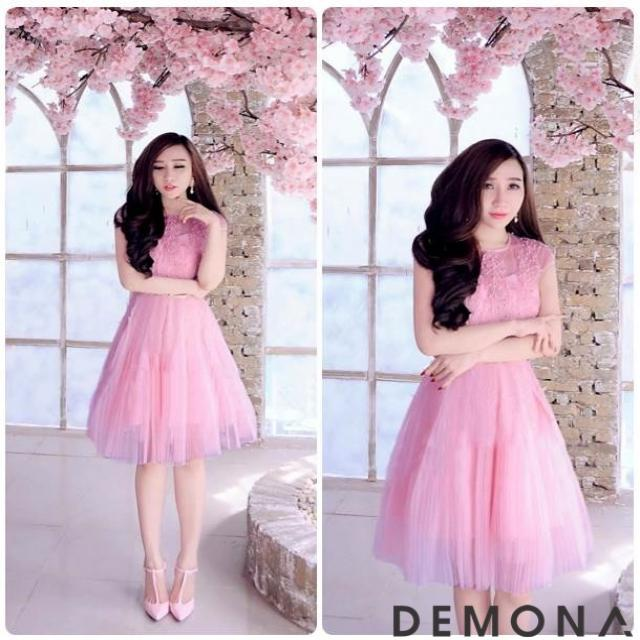clothes: (382, 231, 600, 591), (94, 200, 261, 462)
